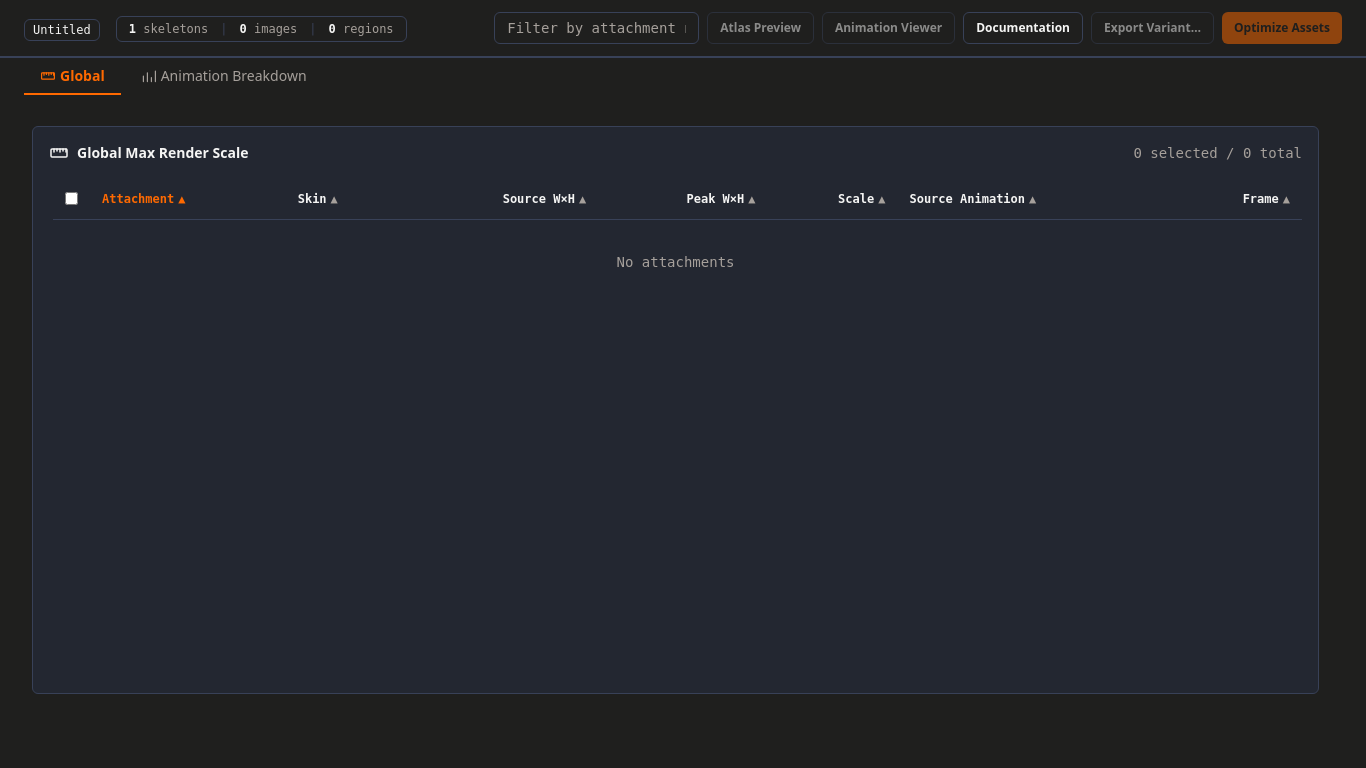
Scenario: Phase 31 LOAD-05/06/07 — source-toggle disabled state › A4: atlas-less mode + hasAtlasFile=true → menu item enabled, no title attribute
The width and height of the screenshot is (1366, 768).
Click the element named "Load summary" at (261, 28), box x1=116 y1=16 x2=407 y2=42
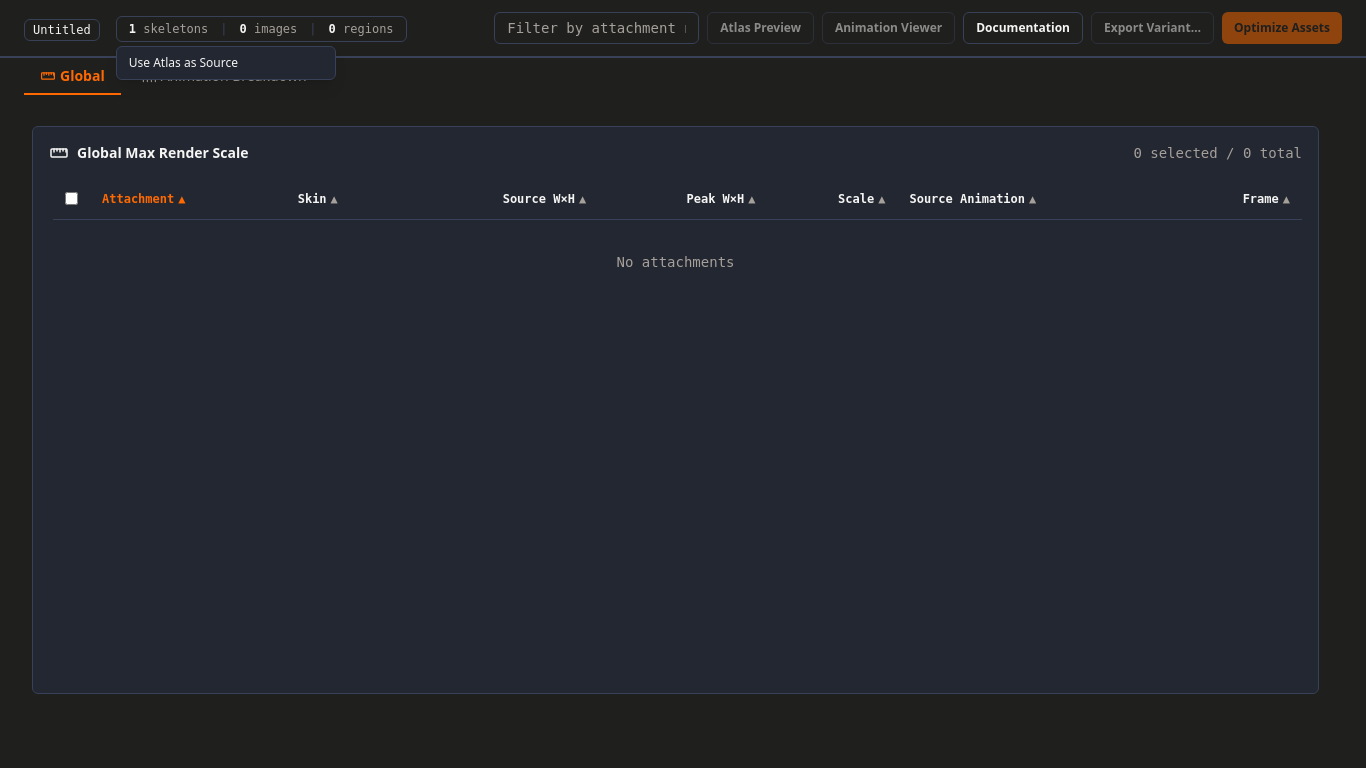
Expected: the button "Use Atlas as Source" is enabled, x1=117 y1=46 x2=335 y2=78
